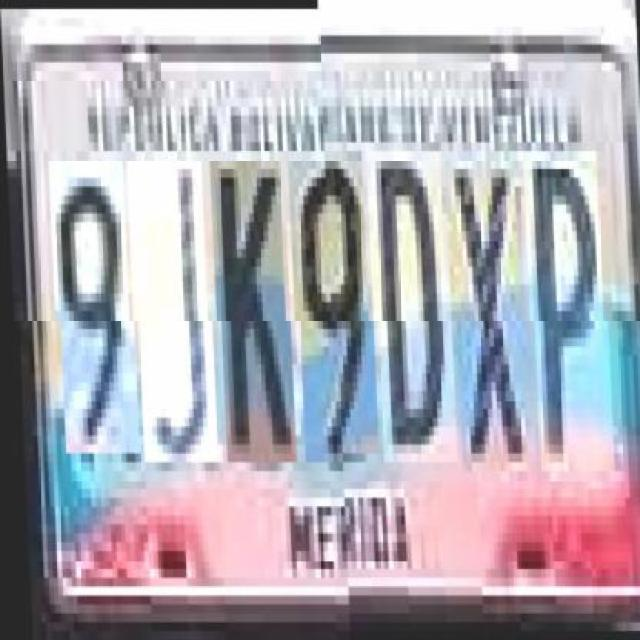9: (292, 160, 376, 462), (52, 159, 136, 453)
d: (369, 160, 454, 471)
j: (130, 160, 215, 462)
k: (212, 160, 292, 462)
p: (525, 160, 610, 480)
x: (448, 160, 528, 480)
